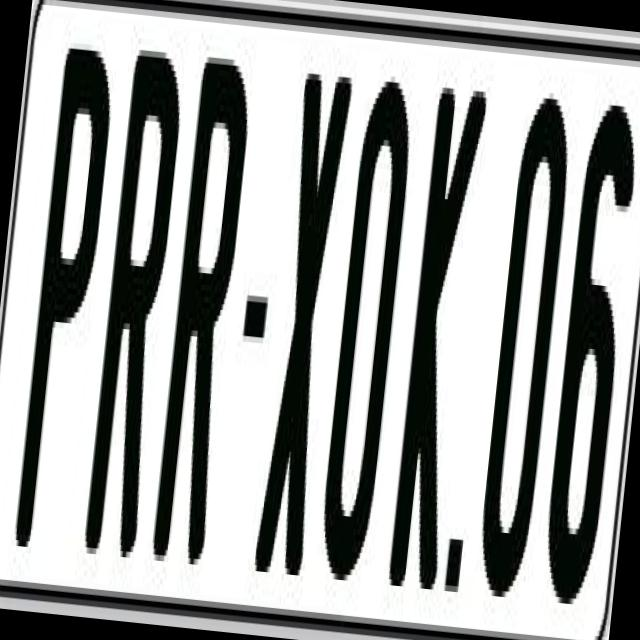0: (469, 84, 578, 616), (313, 73, 417, 599)
6: (538, 97, 640, 600)
K: (384, 81, 488, 584)
P: (9, 29, 121, 550)
R: (80, 31, 194, 558), (150, 45, 260, 571)
X: (252, 73, 356, 576)
